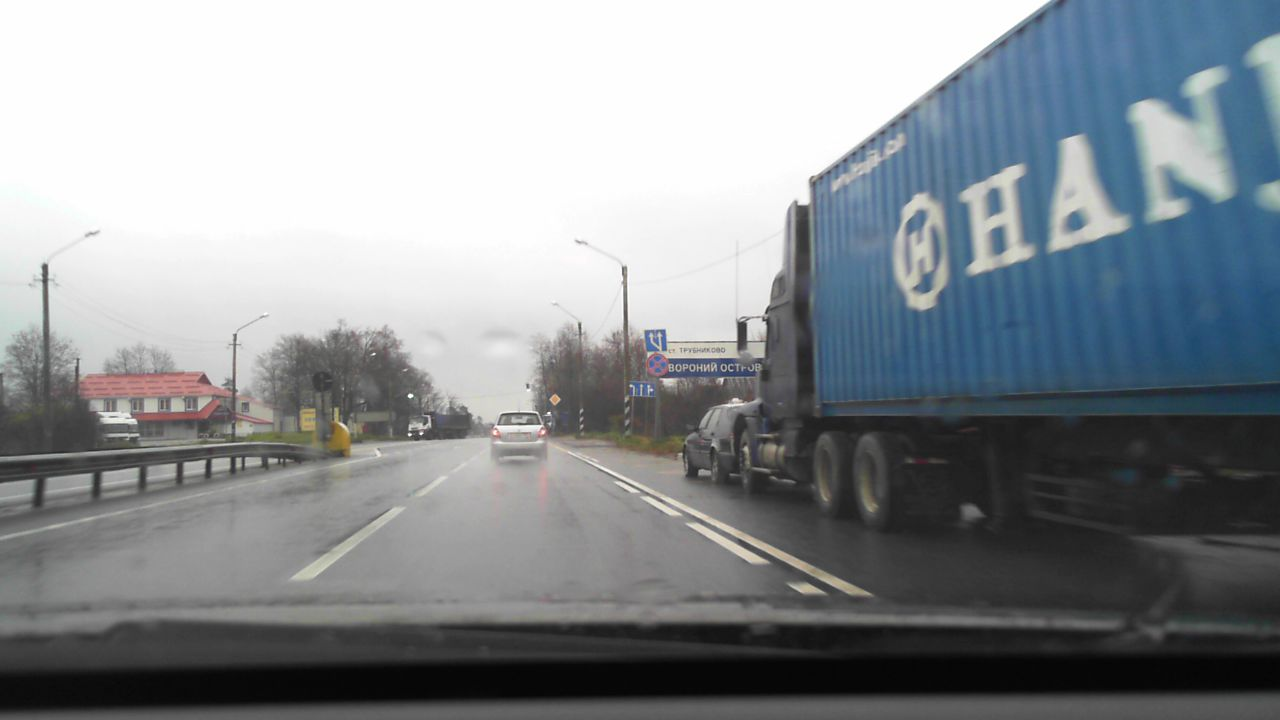No Parking: (646, 353, 668, 377)
